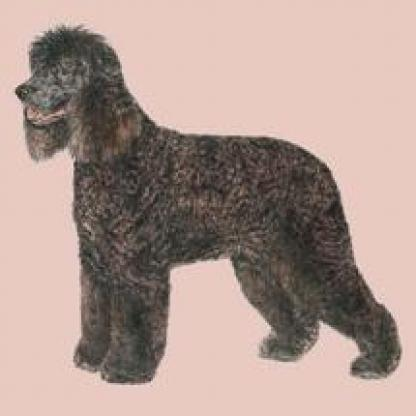Irish_water_spaniel: (16, 21, 398, 385)
